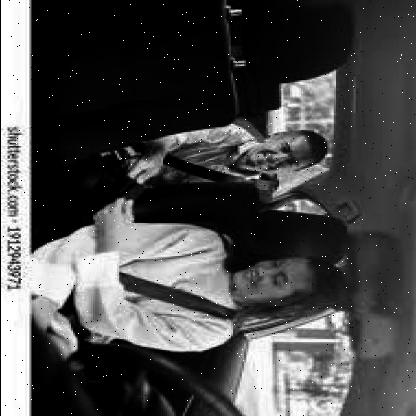seatbelt: (58, 245, 344, 330), (139, 127, 335, 191)
